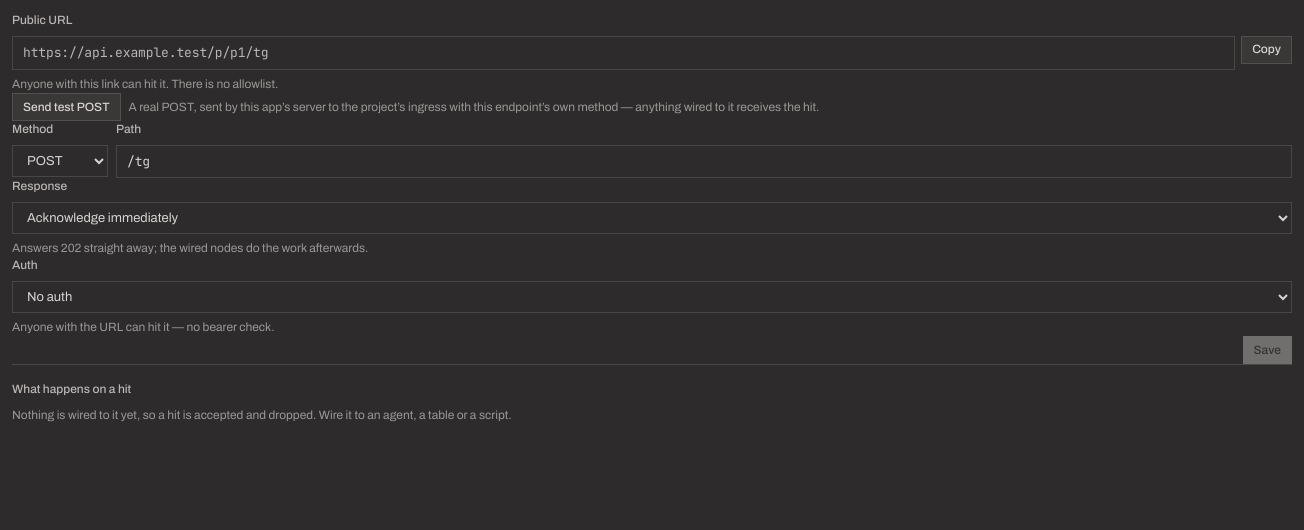
testing the public URL › asks this app's server to probe the endpoint's saved path with its own method
This screenshot has width=1304, height=530.
What coordinates should you click on to do the following:
click the button with test id "btn-endpoint-test"
I would click on:
 (66, 107)
Its box is [12, 93, 120, 121].
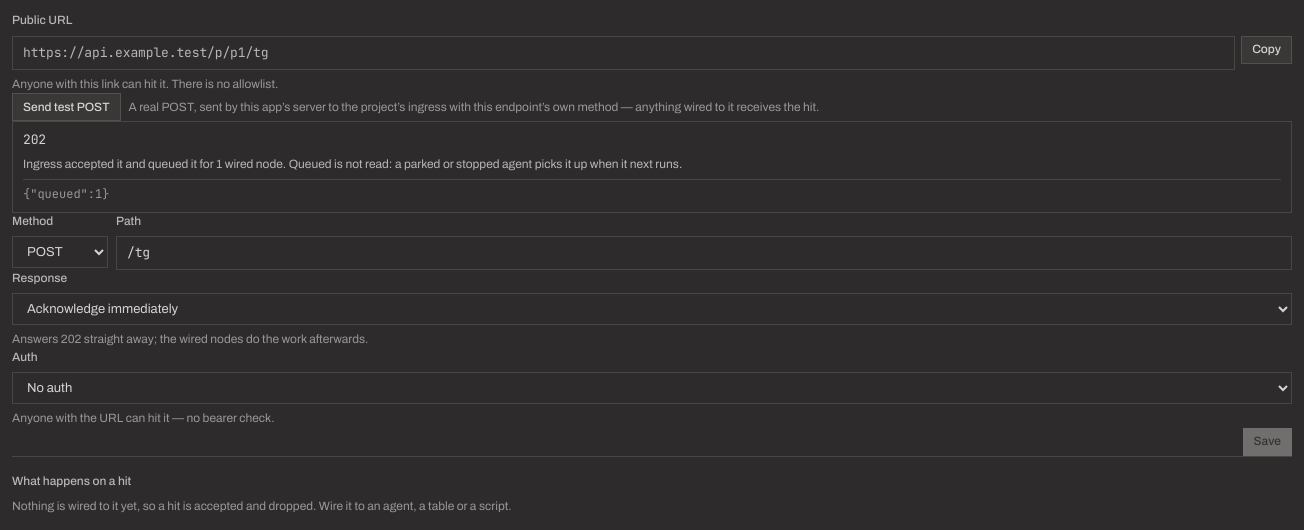
Now the text with test id "endpoint-probe-status" reads "202", box [23, 131, 46, 148]
